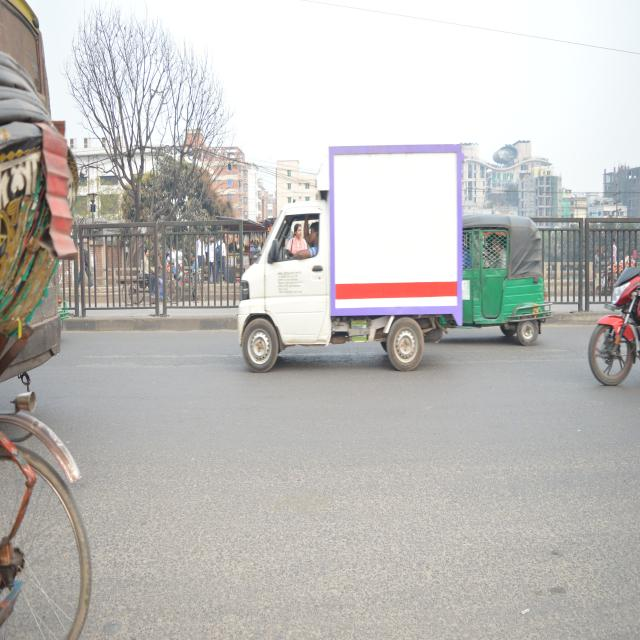motorbike: (585, 255, 640, 388)
pickup-van: (235, 130, 472, 391)
